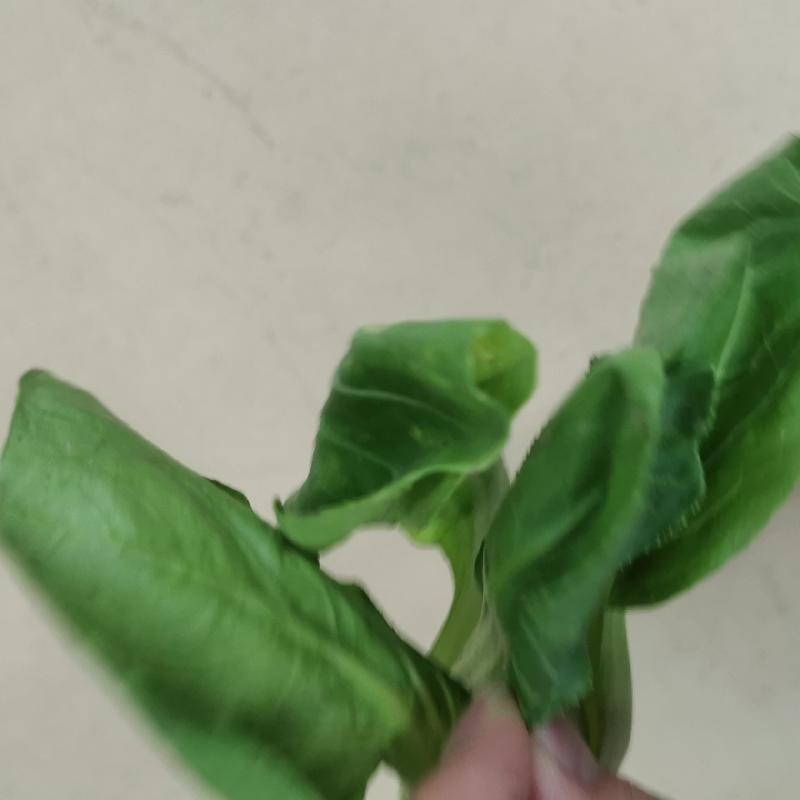green vegatable: (0, 129, 799, 799)
